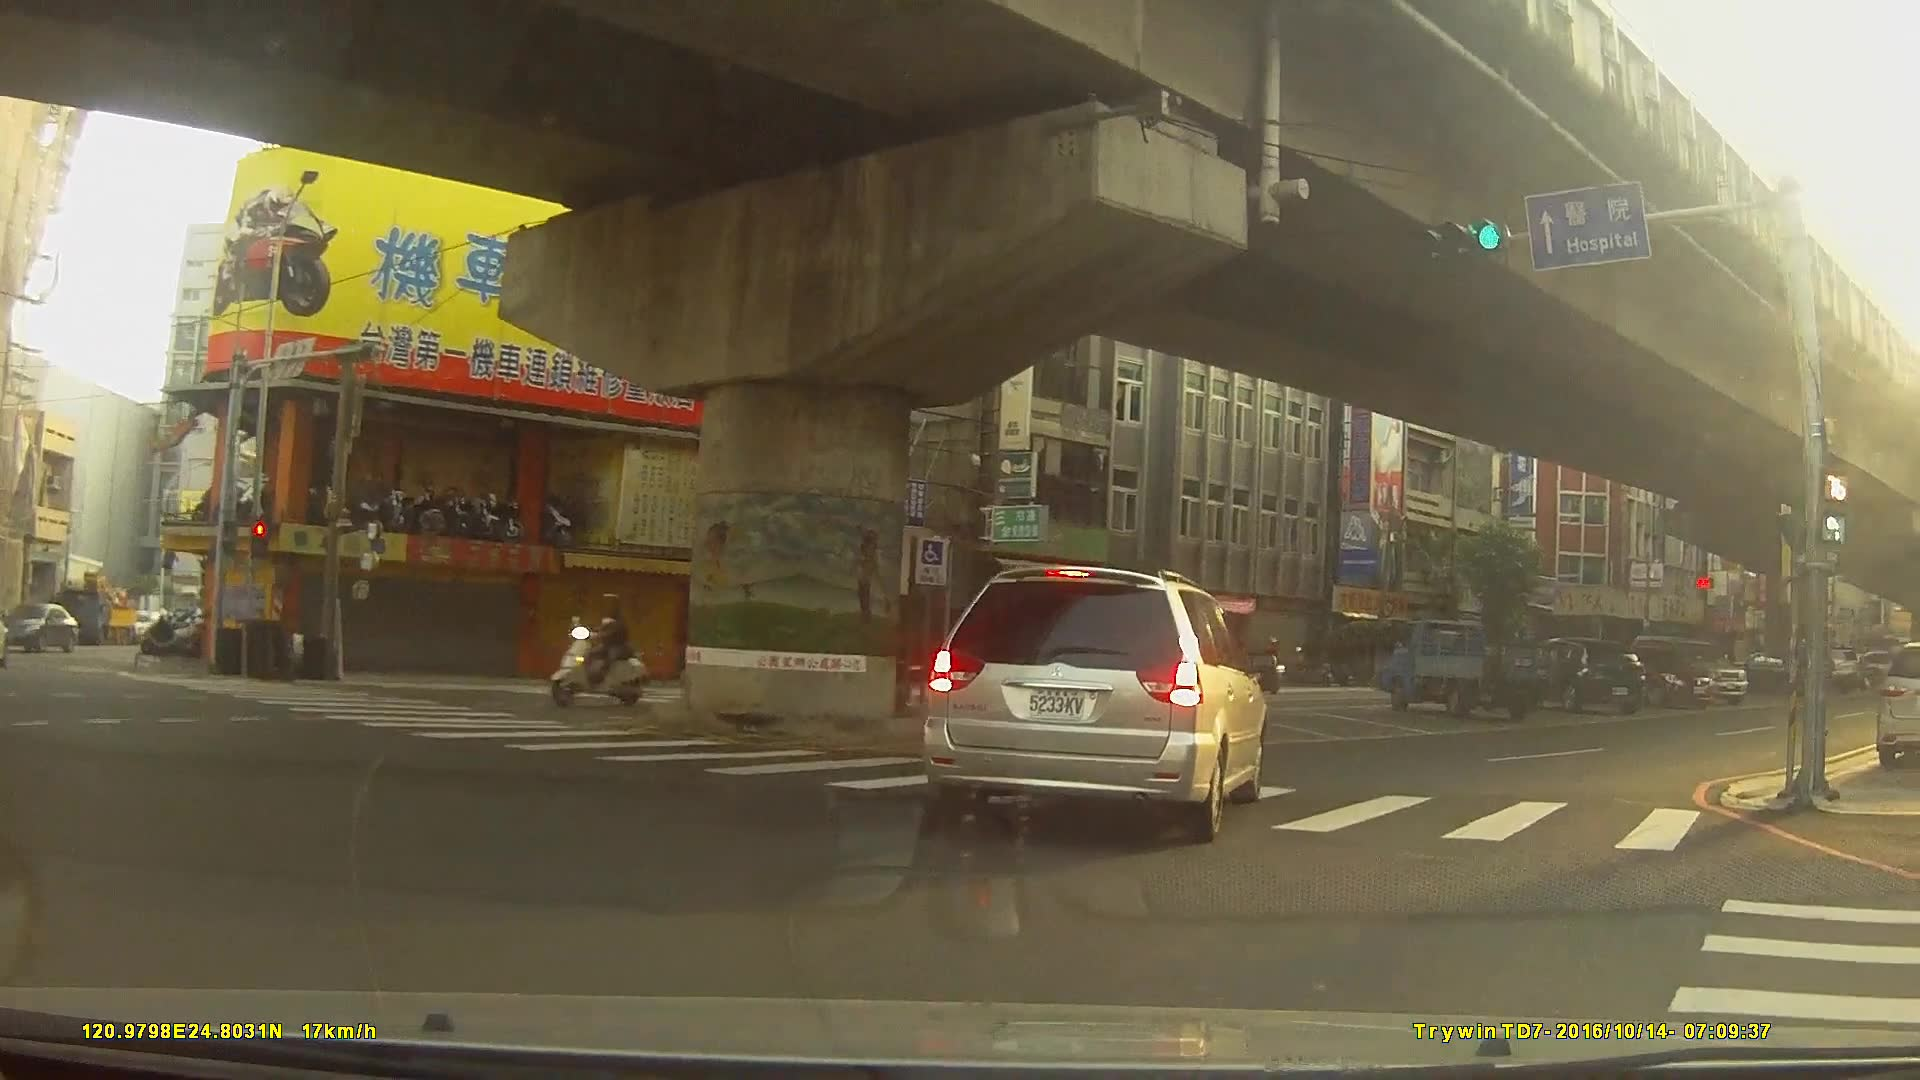rider: (553, 592, 651, 706), (1245, 635, 1284, 691)
vehicle: (920, 562, 1269, 841), (1371, 617, 1554, 720), (1513, 634, 1645, 714), (1602, 644, 1716, 709), (0, 598, 78, 652), (1729, 653, 1802, 692)
